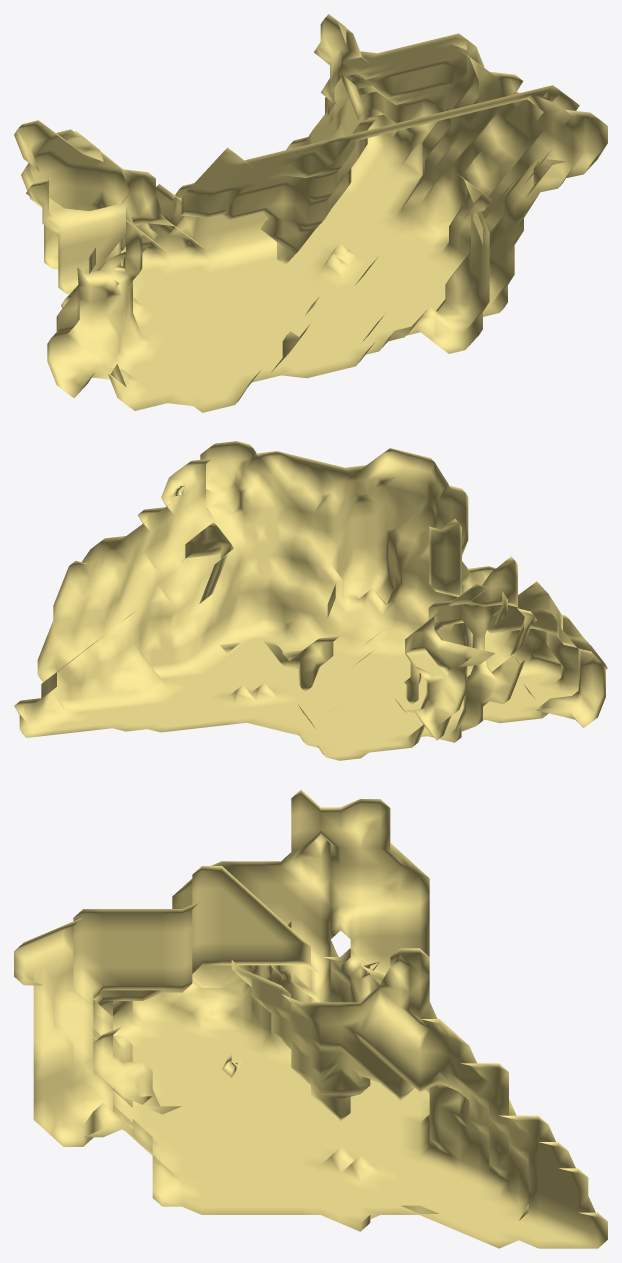
File: osteocyte_12.glb
3 renders of one model, top to bottom at view 1: azimuth 30°, elevation 25°; view 2: azimuth 150°, elevation 25°; view 3: azimuth 270°, elevation 25°, orthographic. The views are drawn at different scales.
Visible parts, largest first — view 1: osteocyte_12; view 2: osteocyte_12; view 3: osteocyte_12.
Boxes of the visible parts, bbox=[...] form: osteocyte_12: bbox=[14, 14, 607, 412]; osteocyte_12: bbox=[14, 441, 607, 760]; osteocyte_12: bbox=[14, 789, 607, 1248].
Size of the model in its own units: 14.31 by 5.81 by 13.41.
